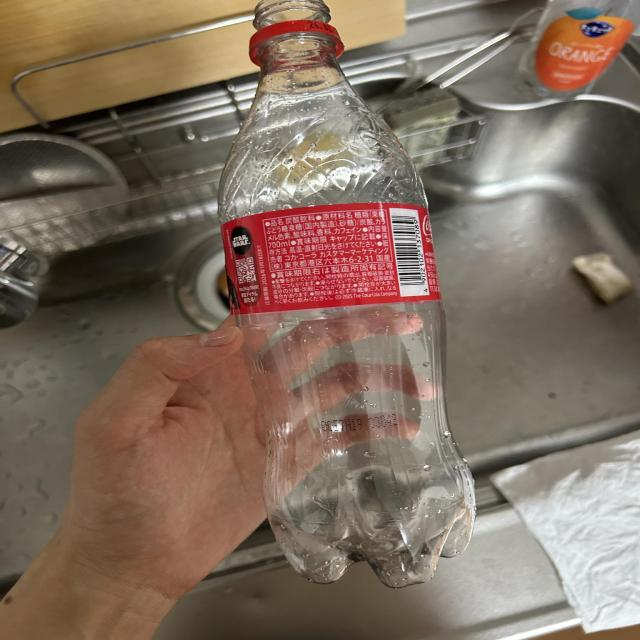empty: (219, 0, 474, 588)
